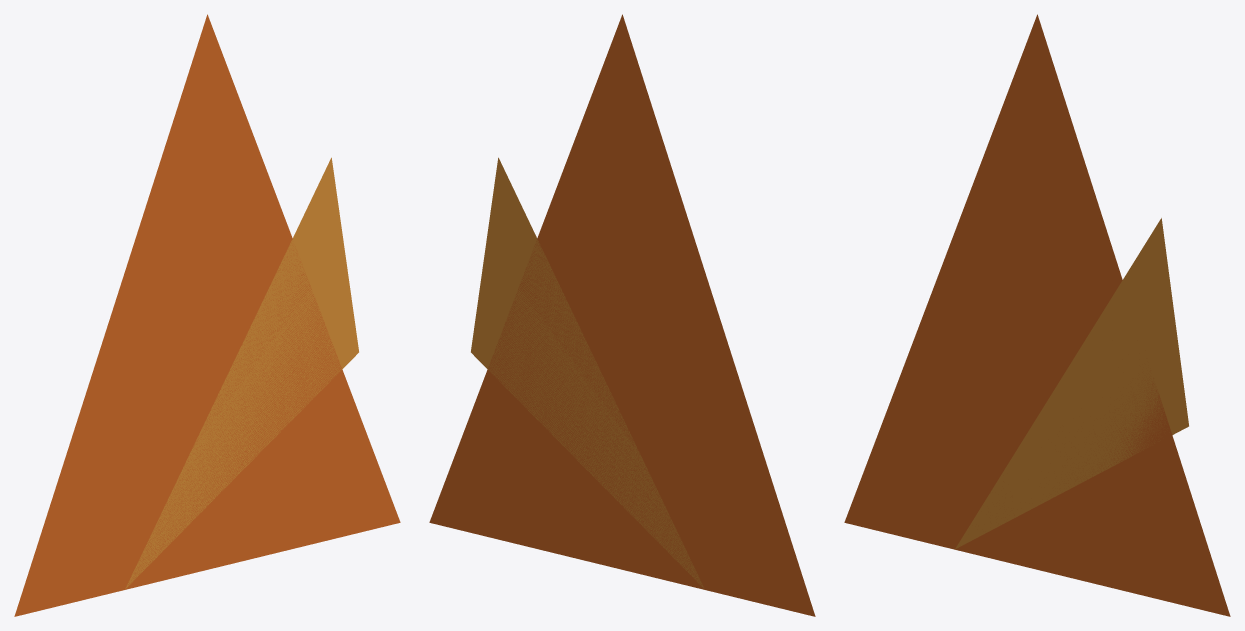
The model's file is fire.glb.
The picture shows the model from 3 angles, left to right: view 1: azimuth 30°, elevation 25°; view 2: azimuth 150°, elevation 25°; view 3: azimuth 330°, elevation 25°; orthographic projection.
Parts seen in each view (by area): view 1: fire; view 2: fire; view 3: fire.
Part boxes in pixels (x1=…): fire: x1=14, y1=14, x2=400, y2=616; fire: x1=429, y1=14, x2=815, y2=616; fire: x1=844, y1=14, x2=1230, y2=616.
Bounding box in the file's own units: 0.56 × 0.77 × 0.
Materials: 1 (1 with a texture image).
